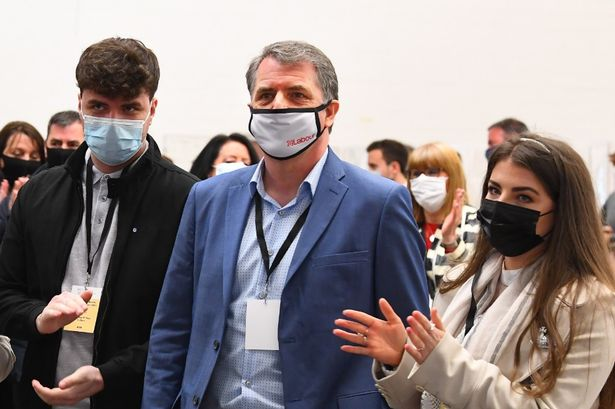with_mask: (485, 179, 542, 242), (254, 81, 314, 140), (83, 99, 144, 147), (410, 168, 448, 205)
